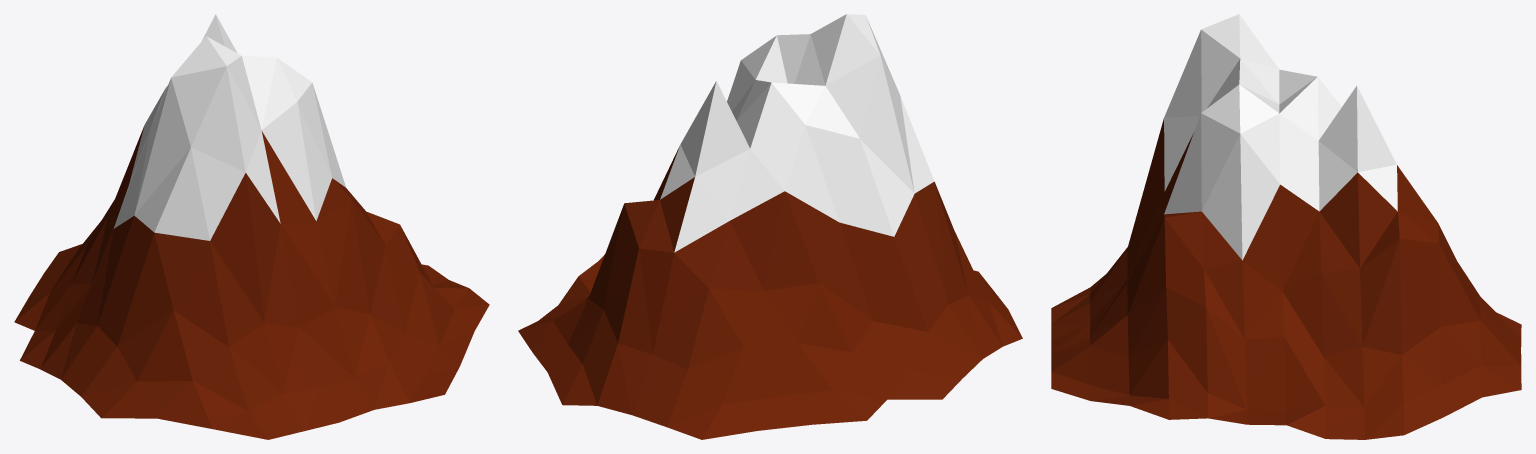
File: Montaña.fbx
3 views of the same model, side by side, from view 1: azimuth 30°, elevation 25°; view 2: azimuth 150°, elevation 25°; view 3: azimuth 270°, elevation 25° (orthographic). The views are drawn at different scales.
Parts seen in each view (by area): view 1: Plane; view 2: Plane; view 3: Plane.
Part boxes in pixels (<box>): Plane: <box>14,14,489,439</box>; Plane: <box>518,14,1022,439</box>; Plane: <box>1051,14,1521,439</box>.
Size of the model in its own units: 547 by 436 by 597.
